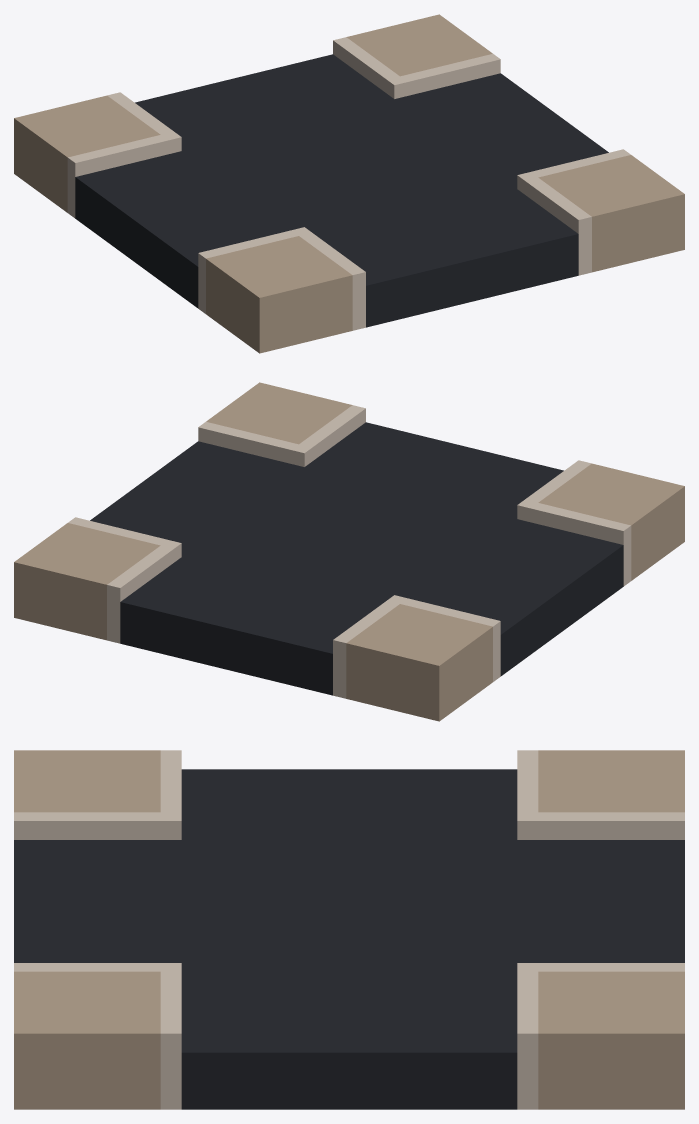
File: road3.obj
The picture shows the model from 3 angles, top to bottom: view 1: azimuth 30°, elevation 25°; view 2: azimuth 150°, elevation 25°; view 3: azimuth 270°, elevation 25°; orthographic projection. The views are drawn at different scales.
Bounding box in the file's own units: 3.2 × 0.4 × 3.2.
1 material, 1 textured.
